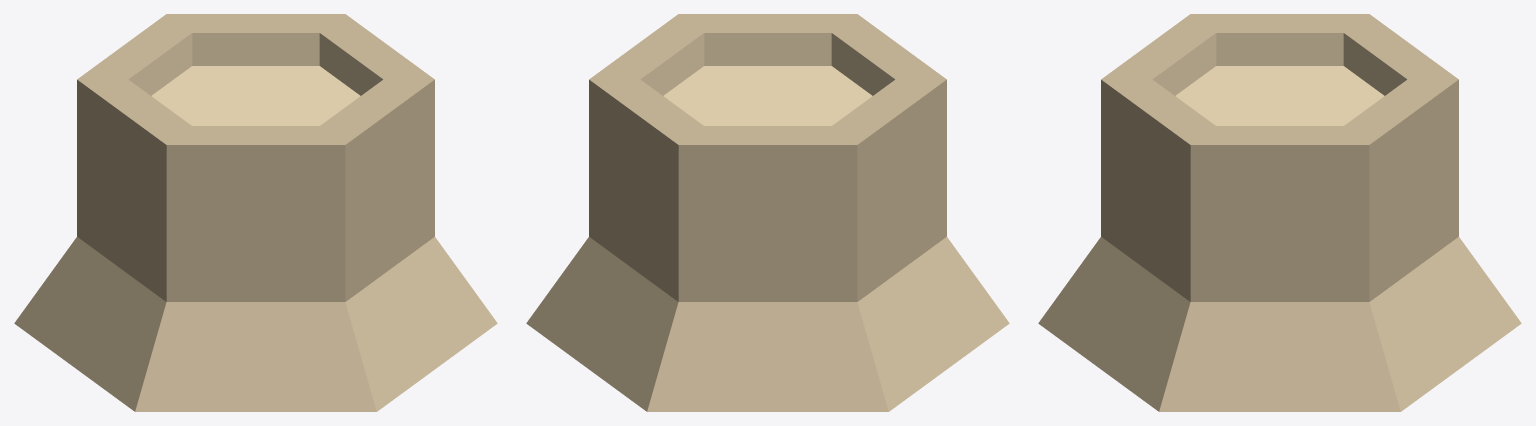
Rendered from Nature Tree Snag 1.fbx.
3 views of the same model, side by side, from view 1: azimuth 30°, elevation 25°; view 2: azimuth 150°, elevation 25°; view 3: azimuth 270°, elevation 25° (orthographic).
Parts seen in each view (by area): view 1: Nature Tree Snag 1; view 2: Nature Tree Snag 1; view 3: Nature Tree Snag 1.
Boxes of the visible parts, x1,y1,x2,y2 form: Nature Tree Snag 1: [14, 14, 497, 411]; Nature Tree Snag 1: [526, 14, 1009, 411]; Nature Tree Snag 1: [1038, 14, 1521, 411].
Size of the model in its own units: 0.918 by 0.59 by 1.06.
